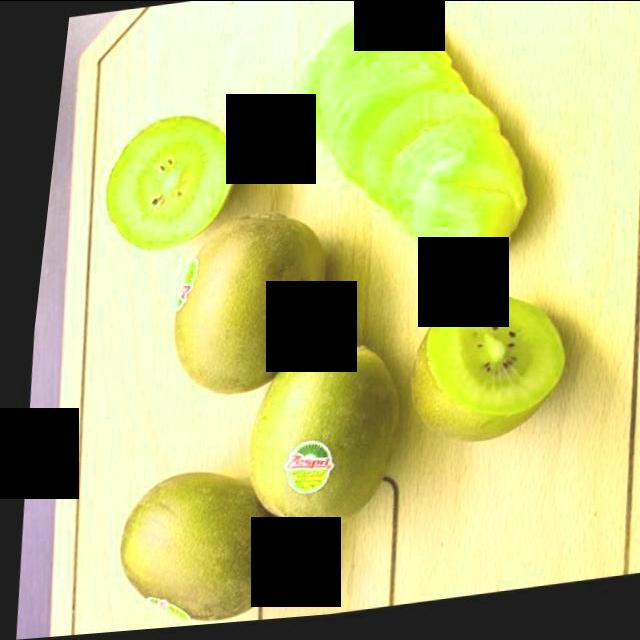kiwi: (229, 327, 413, 548), (153, 204, 340, 413), (104, 464, 297, 634)
